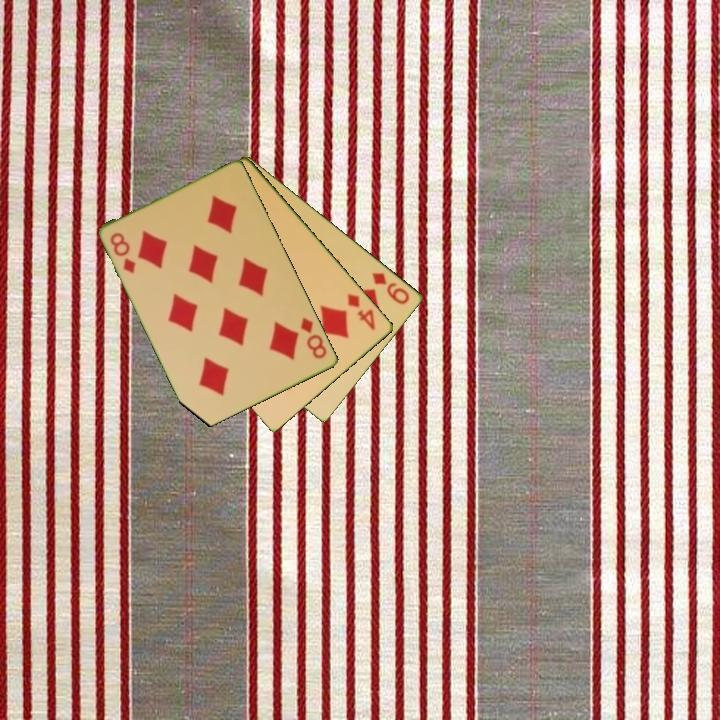4d: (344, 290, 379, 334)
8d: (297, 314, 330, 362), (107, 229, 139, 277)
9d: (368, 269, 413, 307)
